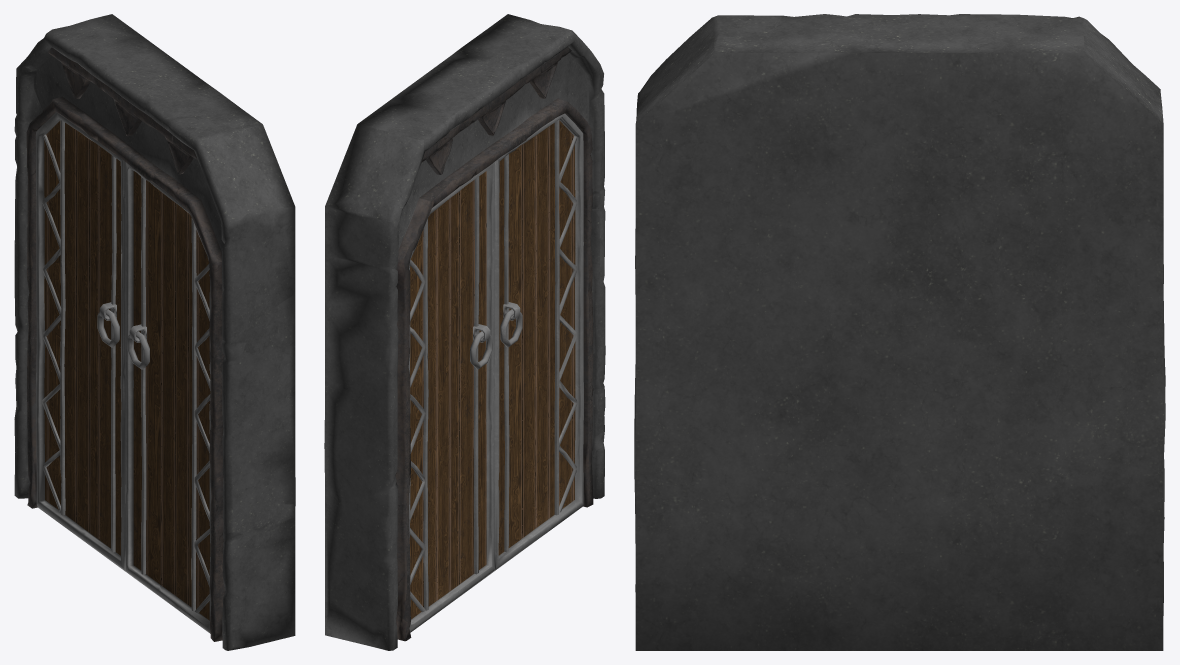
The model's file is SM_Door.fbx.
The picture shows the model from 3 angles, left to right: view 1: azimuth 30°, elevation 25°; view 2: azimuth 150°, elevation 25°; view 3: azimuth 270°, elevation 25°; orthographic projection. The views are drawn at different scales.
Visible parts, largest first — view 1: SM_Door_LOD0; view 2: SM_Door_LOD0; view 3: SM_Door_LOD0.
Boxes of the visible parts, bbox=[...] form: SM_Door_LOD0: bbox=[14, 14, 295, 650]; SM_Door_LOD0: bbox=[324, 14, 605, 650]; SM_Door_LOD0: bbox=[634, 14, 1165, 650].
Bounding box in the file's own units: 37.9 × 201 × 251.
4 materials, 4 textured.
